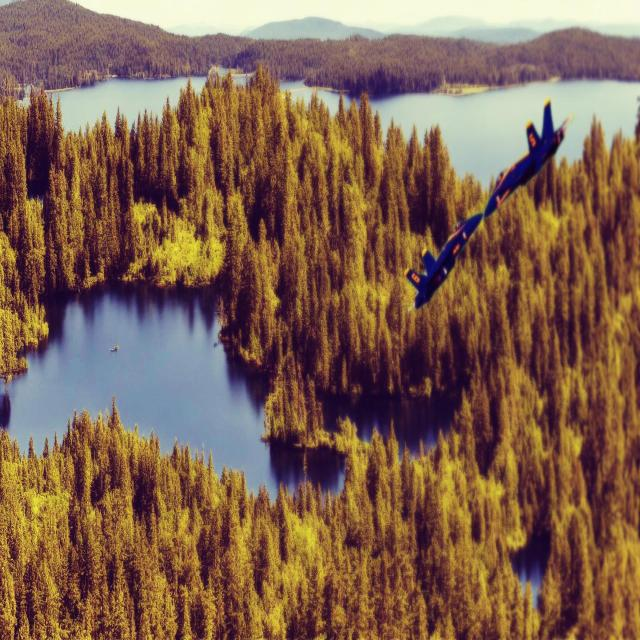airplane: (483, 97, 572, 219), (404, 212, 484, 311)
